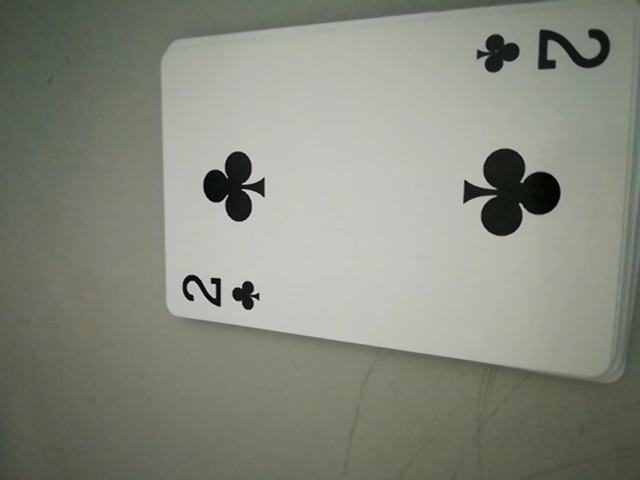mh 2: (477, 20, 609, 84), (175, 266, 271, 319)
